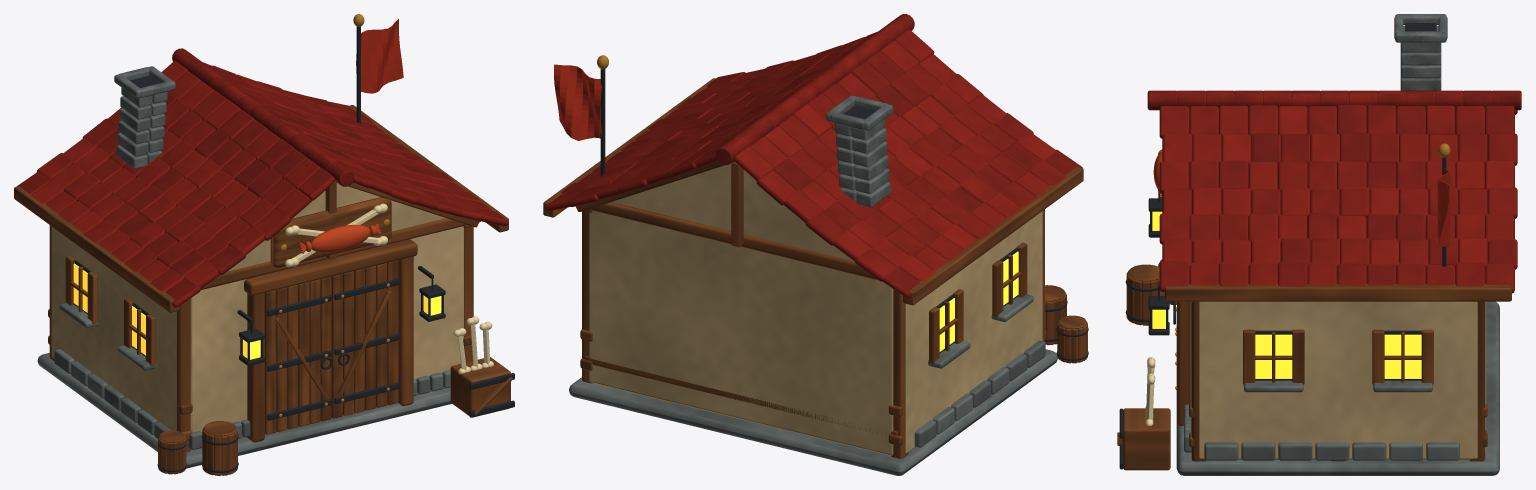
The model's file is Sausage_Barracks.fbx.
The picture shows the model from 3 angles, left to right: view 1: azimuth 30°, elevation 25°; view 2: azimuth 150°, elevation 25°; view 3: azimuth 270°, elevation 25°; orthographic projection. The views are drawn at different scales.
Parts seen in each view (by area): view 1: Roof, Structure, Timber, Props, Door_Right, Door_Left, Roof_Detail, Emblem, Chimney, Team_Banner; view 2: Structure, Roof, Timber, Roof_Detail, Props, Chimney, Team_Banner; view 3: Roof, Structure, Props, Roof_Detail, Timber, Chimney, Team_Banner.
Part boxes in pixels (x1,y1,x2,y2): Roof: (17,61,508,307); Structure: (37,183,463,468); Timber: (48,181,480,452); Props: (59,14,514,475); Door_Right: (331,260,399,418); Door_Left: (265,277,332,434); Roof_Detail: (14,48,508,312); Emblem: (270,197,391,267); Chimney: (114,66,175,168); Team_Banner: (356,19,403,93); Structure: (569,163,1057,475); Roof: (544,29,1082,298); Timber: (576,160,1046,458); Roof_Detail: (543,14,1083,305); Props: (597,55,1088,368); Chimney: (826,95,893,207); Team_Banner: (554,64,602,140); Roof: (1159,105,1517,293); Structure: (1176,301,1499,475); Props: (1117,143,1450,470); Roof_Detail: (1147,90,1521,301); Timber: (1177,301,1487,461); Chimney: (1394,14,1447,90); Team_Banner: (1437,168,1450,246).
Size of the model in its own units: 757 by 591 by 657.
Materials: 10 (4 with a texture image).
